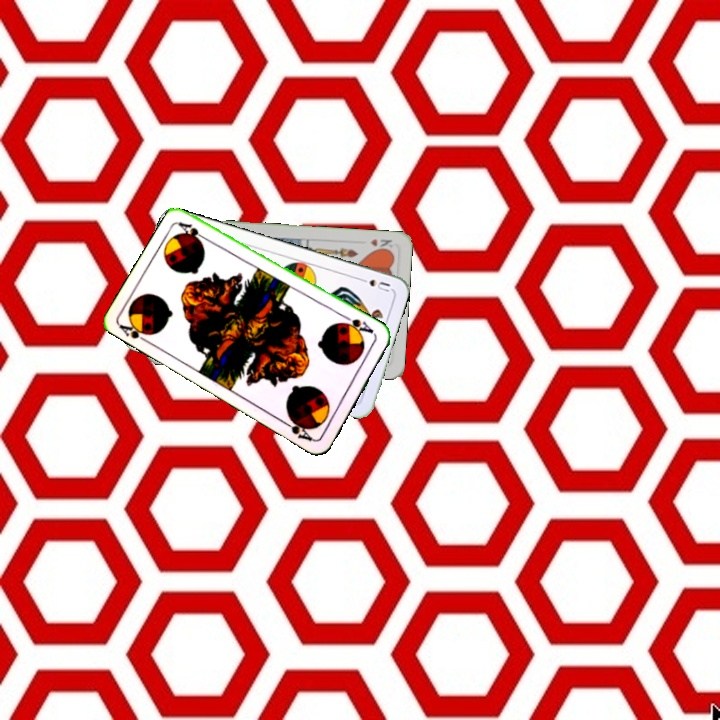HK: (366, 235, 395, 254)
SA: (115, 315, 157, 346), (338, 312, 378, 338)
SU: (354, 274, 393, 294)
